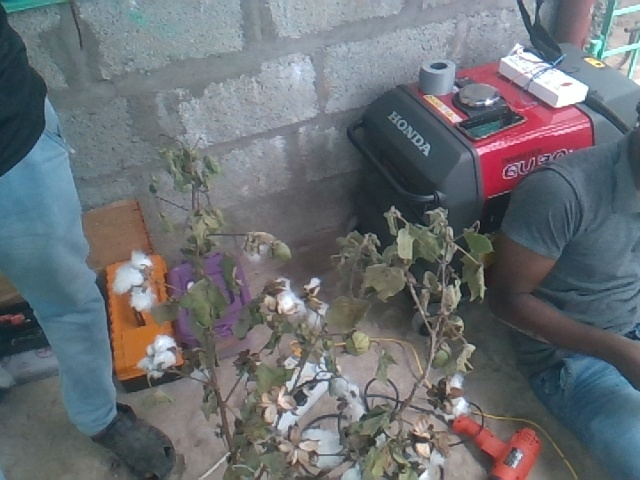cotton: (117, 254, 149, 314), (137, 335, 175, 382), (266, 281, 300, 314), (327, 373, 357, 403)
